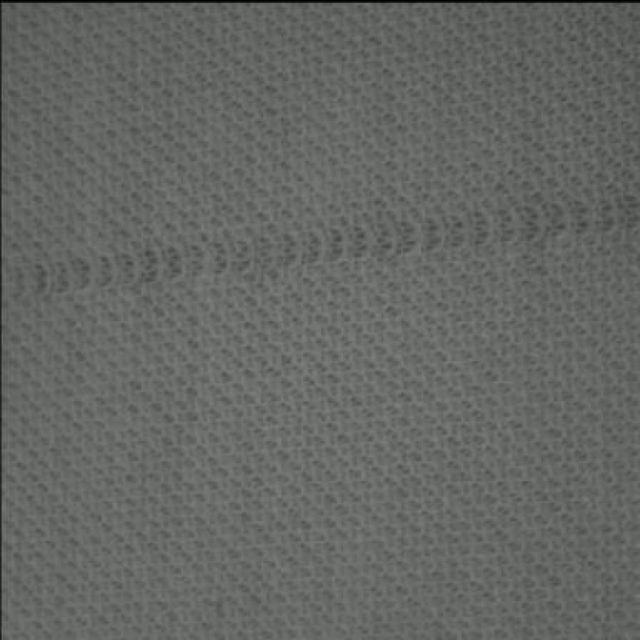Line: (9, 192, 639, 303)
